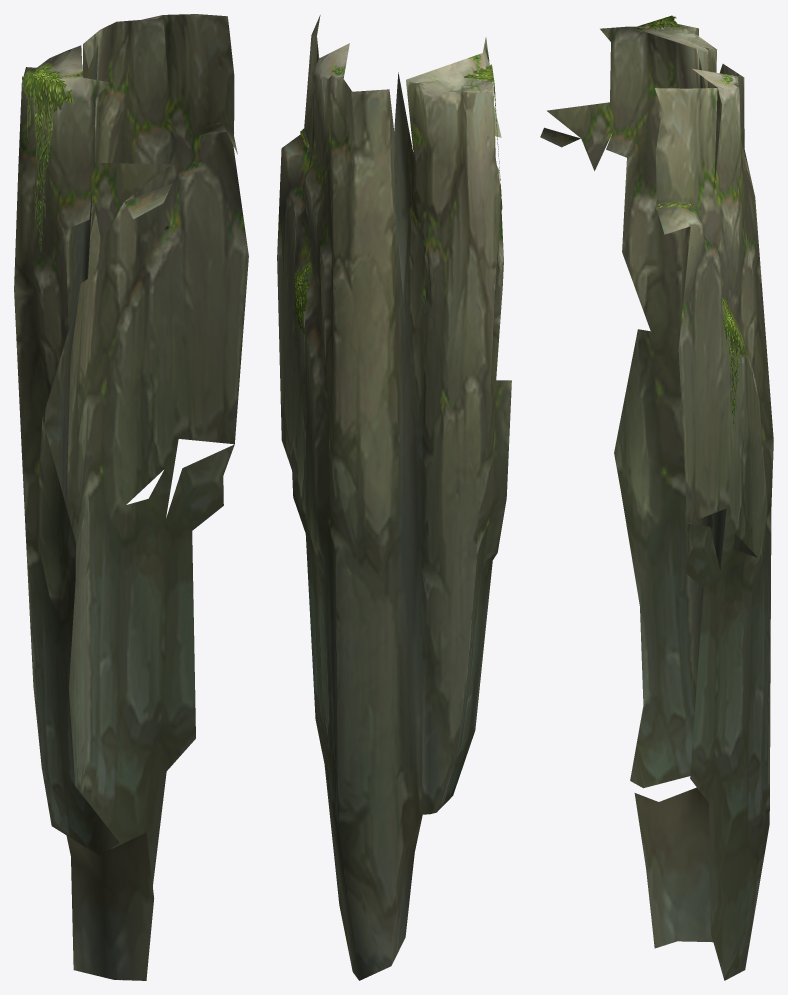
The model's file is S_Rock_Green080_H8.FBX.
3 views of the same model, side by side, from view 1: azimuth 30°, elevation 25°; view 2: azimuth 150°, elevation 25°; view 3: azimuth 270°, elevation 25° (orthographic). The views are drawn at different scales.
Parts seen in each view (by area): view 1: S_Rock_Green080_H8; view 2: S_Rock_Green080_H8; view 3: S_Rock_Green080_H8.
Part boxes in pixels (left/top/right/bottom): S_Rock_Green080_H8: left=14, top=14, right=248, bottom=980; S_Rock_Green080_H8: left=277, top=15, right=511, bottom=980; S_Rock_Green080_H8: left=540, top=15, right=773, bottom=980.
Size of the model in its own units: 3136 by 12508 by 2862.
